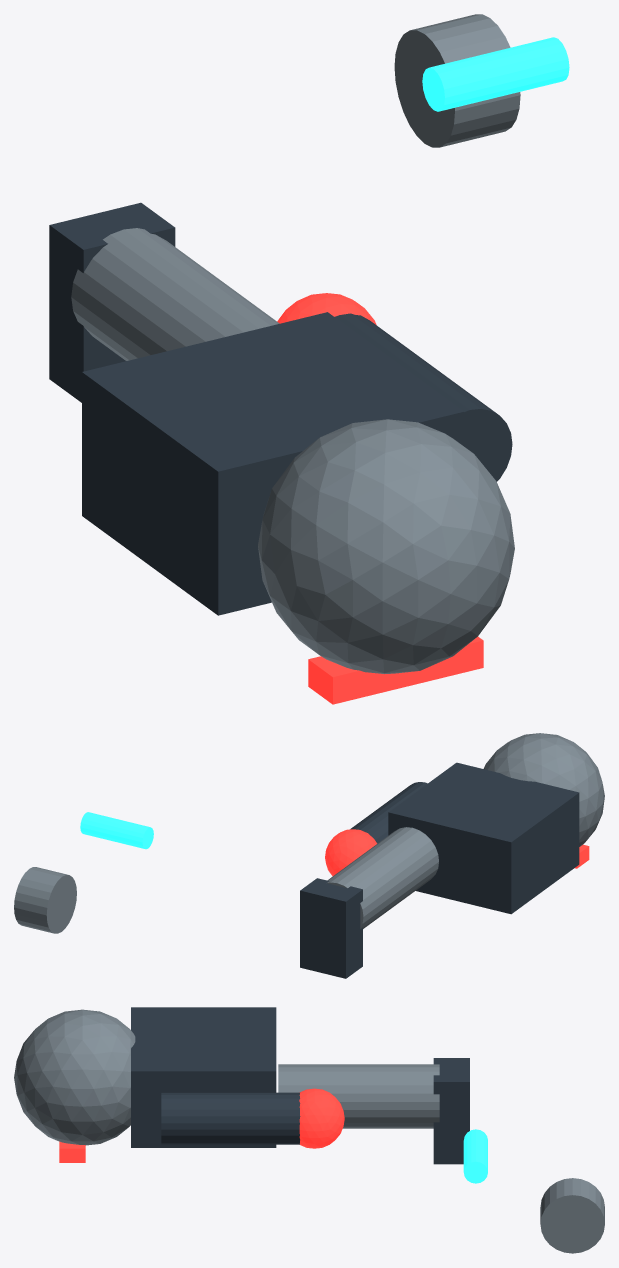
The model's file is cybershield_attack_robot.glb.
3 views of the same model, one above another, from view 1: azimuth 30°, elevation 25°; view 2: azimuth 150°, elevation 25°; view 3: azimuth 270°, elevation 25° (orthographic). The views are drawn at different scales.
Parts seen in each view (by area): view 1: chest, robot_head, leg, shoulder, foot, back_spine, arm, visor, claw; view 2: chest, robot_head, leg, foot, shoulder, back_spine, claw, arm; view 3: chest, robot_head, leg, arm, shoulder, foot, claw, back_spine, visor.
Part boxes in pixels (x1,y1,x2,y2): chest: (82,312,463,615); robot_head: (258,419,514,673); leg: (71,228,279,360); shoulder: (394,14,520,147); foot: (49,202,175,402); back_spine: (422,37,569,111); arm: (335,313,512,481); visor: (308,636,483,704); claw: (277,293,376,325); chest: (388,762,579,914); robot_head: (483,733,604,846); leg: (327,827,438,928); foot: (300,878,362,978); shoulder: (14,867,76,933); back_spine: (80,812,153,849); claw: (325,829,377,876); arm: (350,782,427,843); chest: (131,1007,276,1147); robot_head: (14,1009,135,1145); leg: (278,1064,439,1128); arm: (161,1092,300,1144); shoulder: (540,1178,604,1253); foot: (433,1058,469,1164); claw: (299,1088,344,1148); back_spine: (463,1129,487,1183); visor: (59,1141,85,1162).
Bounding box in the file's own units: 2.1 × 0.7 × 2.93.
